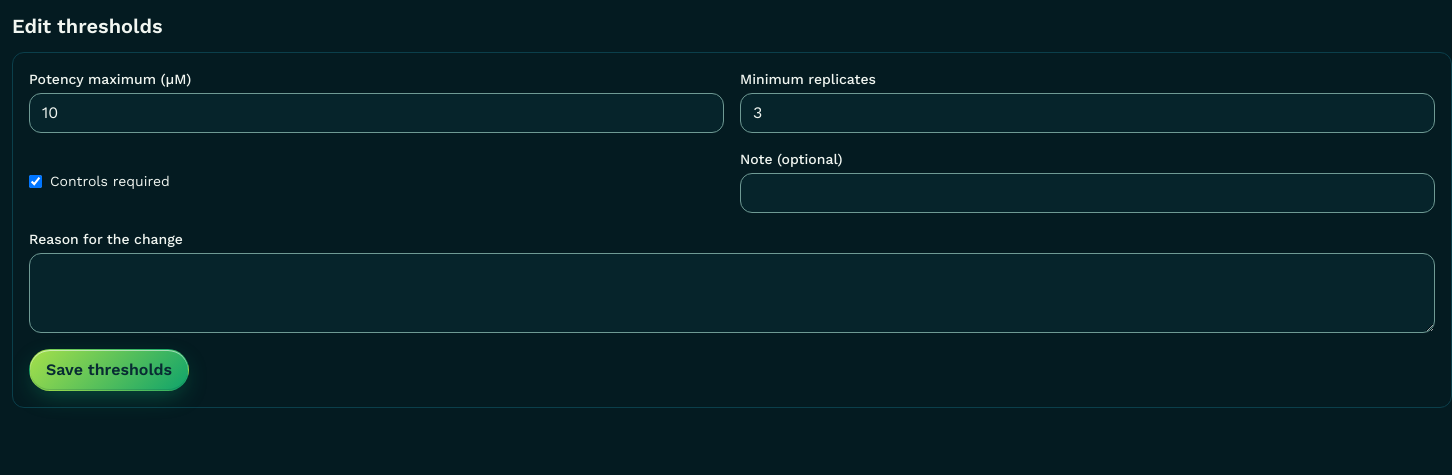
ThresholdForm › sends the thresholds, reason, current version and a key; says a new version was created
The image size is (1452, 475).
Replace the text in the number field labelled "Minimum replicates" with "5" at (1088, 113), box [740, 93, 1435, 133]
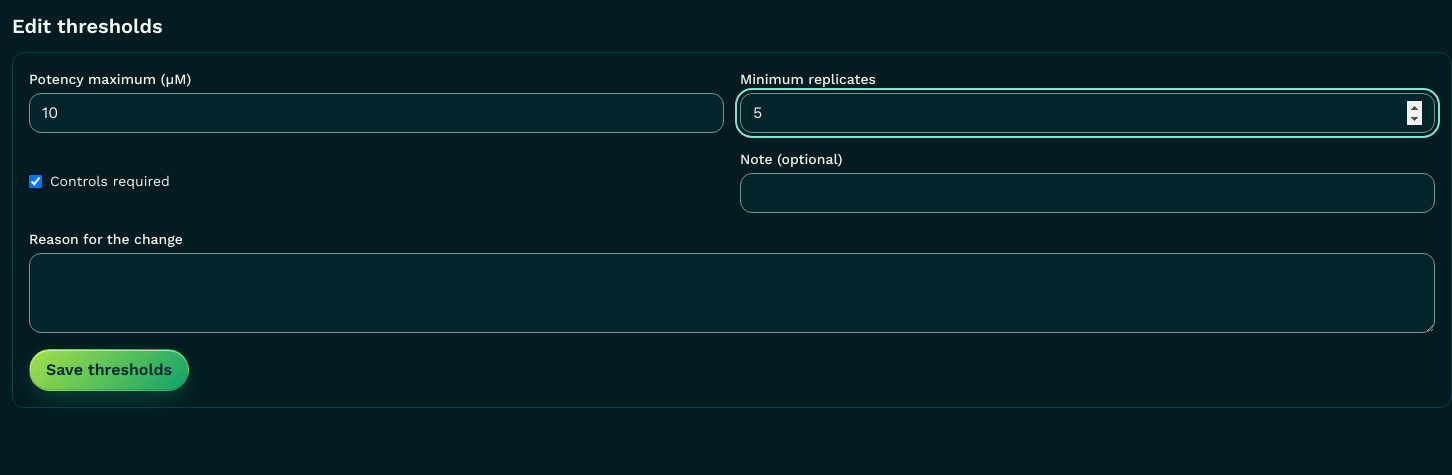
Type "tighten replicates" into the text box labelled "Reason for the change" at (732, 293), box [29, 253, 1435, 333]
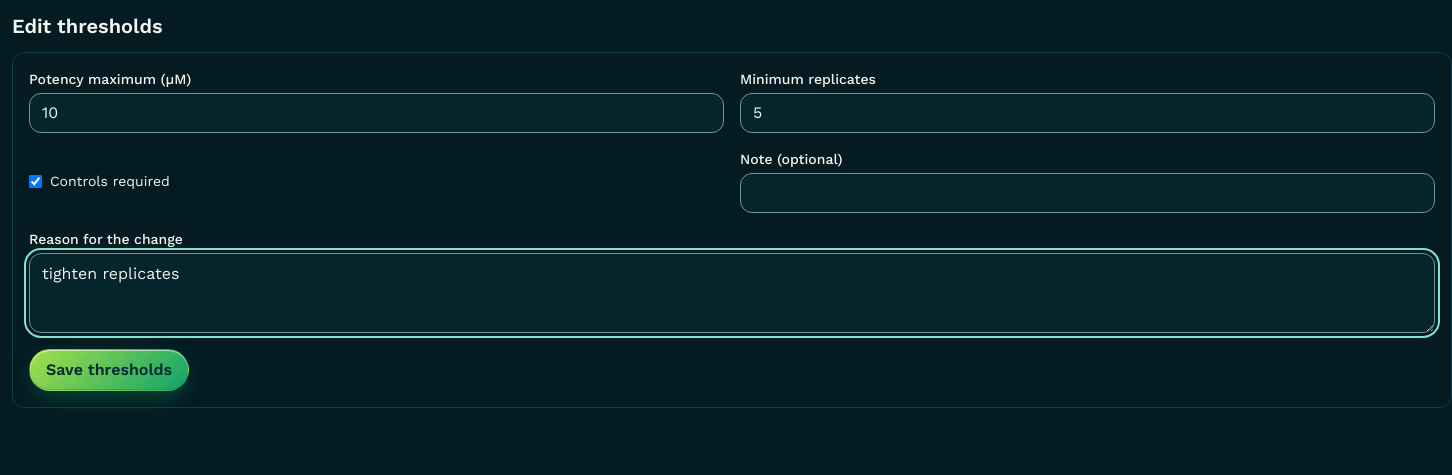
Click the button "Save thresholds" at (109, 370), box [29, 349, 189, 391]
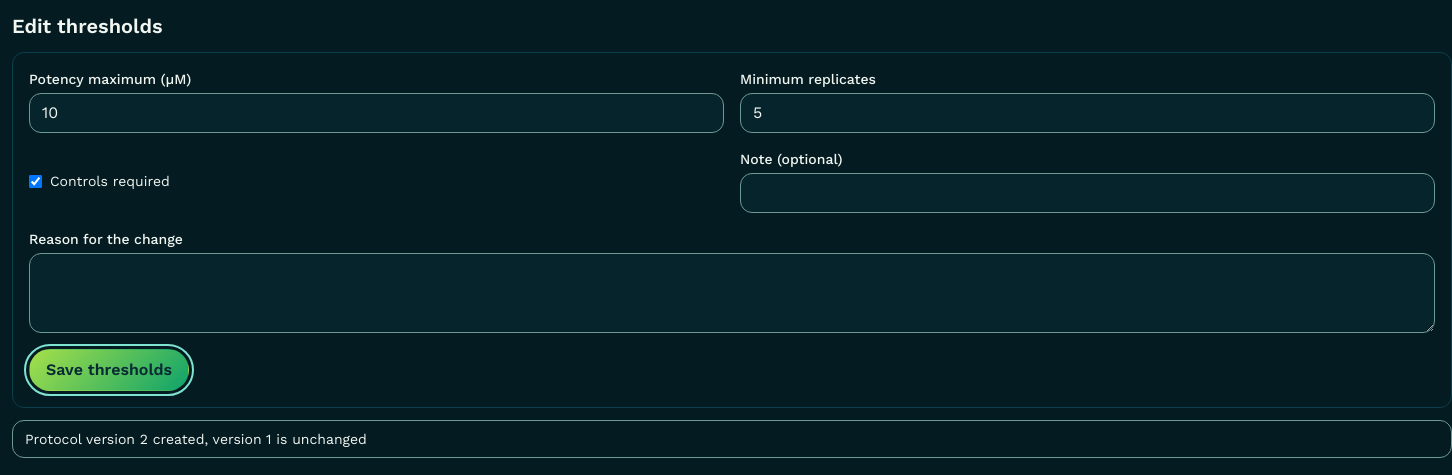
Expected: the text "Protocol version 2 created, version 1 is unchanged" is shown, [12, 420, 1451, 458]
